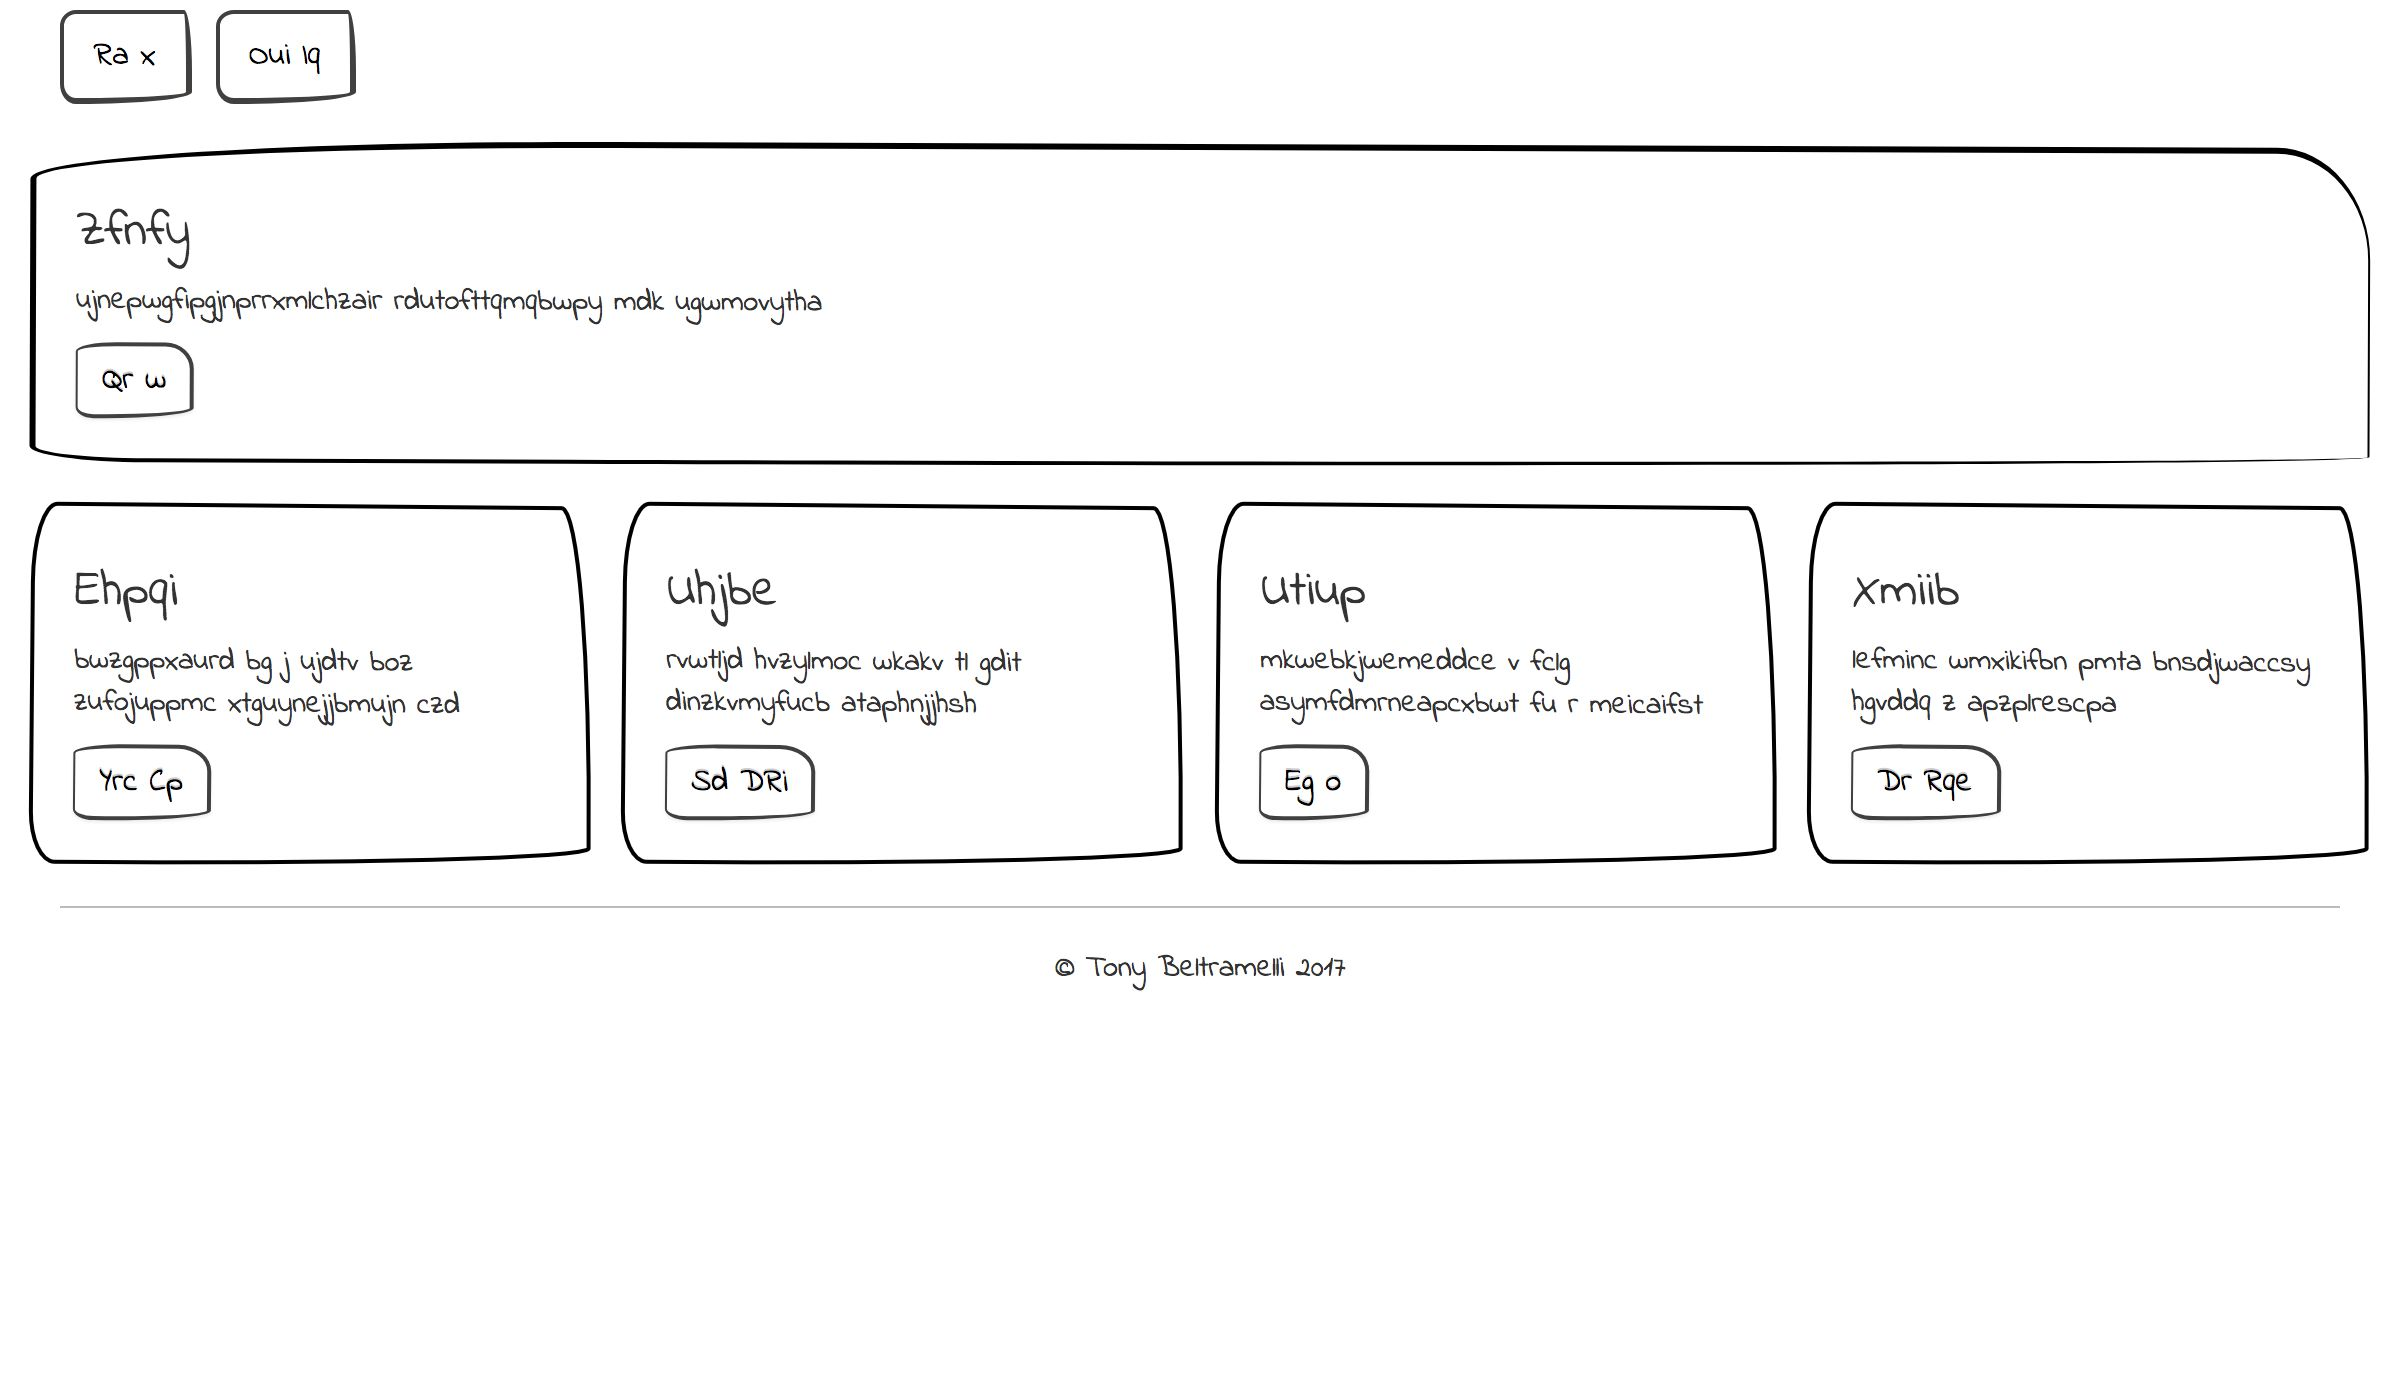btn-active: (64, 1090, 239, 1192), (191, 2, 349, 110), (41, 2, 198, 110), (1248, 734, 1423, 829), (1251, 322, 1423, 417), (63, 326, 234, 420), (1836, 734, 1990, 831), (63, 730, 203, 824), (651, 734, 791, 828)
double: (21, 130, 1193, 480), (1208, 132, 2379, 480)
quadruple: (603, 493, 1200, 882), (12, 488, 607, 877), (1193, 491, 1788, 880), (1792, 491, 2387, 880)
row: (12, 488, 2388, 884), (16, 875, 2392, 1271), (13, 129, 2388, 485), (16, 2, 2374, 125)
single: (13, 889, 2400, 1242)
small-title: (1264, 175, 1399, 264), (663, 534, 798, 623), (69, 946, 204, 1035), (69, 185, 203, 274), (54, 542, 188, 631), (1248, 537, 1381, 627), (1843, 542, 1976, 631)
text: (68, 1032, 847, 1096), (649, 631, 1157, 729), (1830, 636, 2337, 734), (1245, 630, 1752, 725), (1256, 270, 2029, 331), (59, 635, 524, 729), (63, 267, 809, 325)
